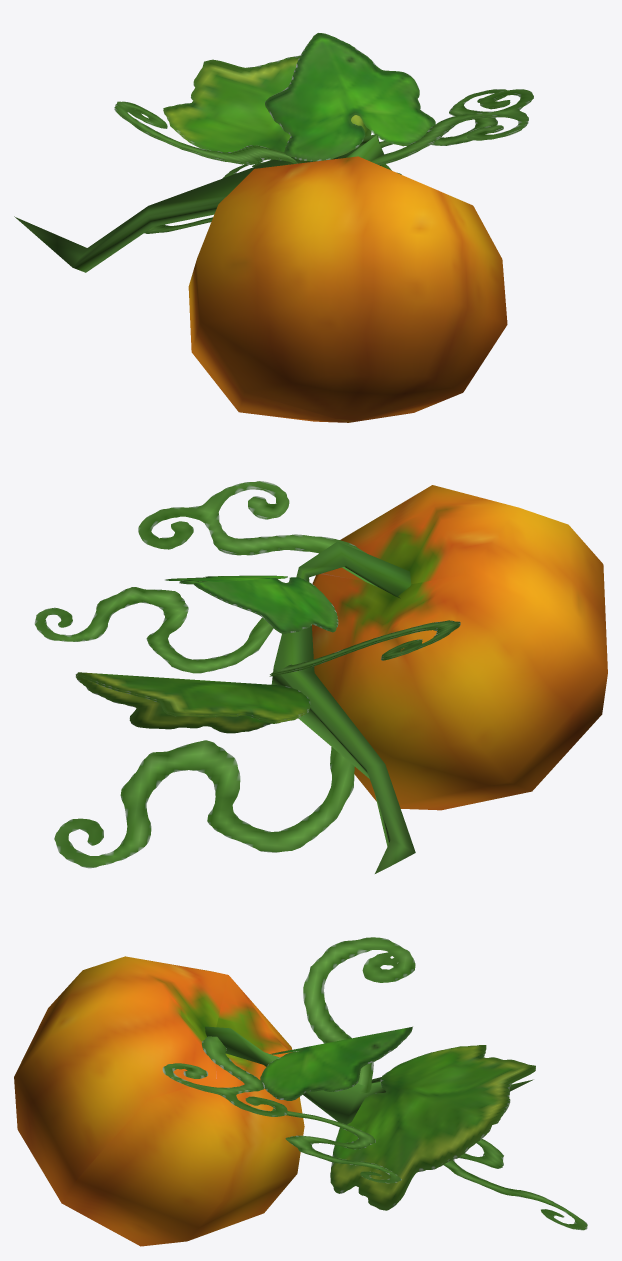
File: Pla_nangua02.FBX
3 views of the same model, one above another, from view 1: azimuth 30°, elevation 25°; view 2: azimuth 150°, elevation 25°; view 3: azimuth 270°, elevation 25° (orthographic). The views are drawn at different scales.
Parts seen in each view (by area): view 1: Pla_nangua02; view 2: Pla_nangua02; view 3: Pla_nangua02.
Part boxes in pixels (left/top/right/bottom): Pla_nangua02: left=14, top=33, right=533, bottom=422; Pla_nangua02: left=34, top=481, right=607, bottom=873; Pla_nangua02: left=14, top=937, right=587, bottom=1246.
Size of the model in its own units: 5.74 by 7.3 by 3.47.
